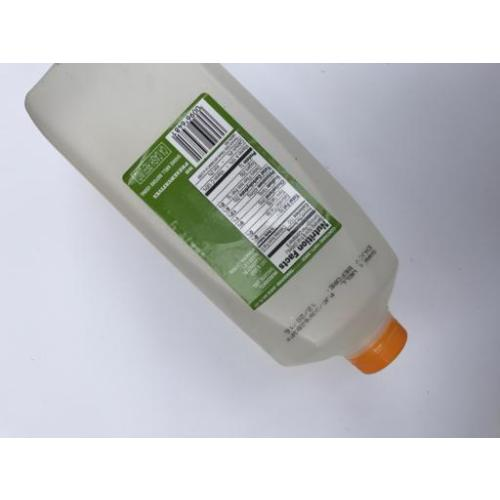plastic: (22, 66, 408, 376)
